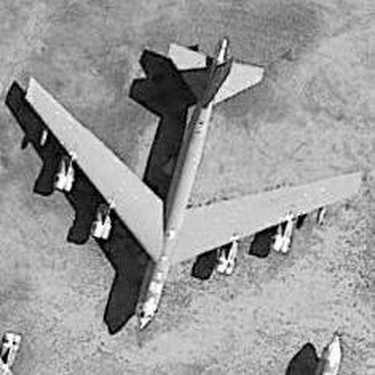airplane: (9, 27, 369, 340), (281, 323, 362, 373)
